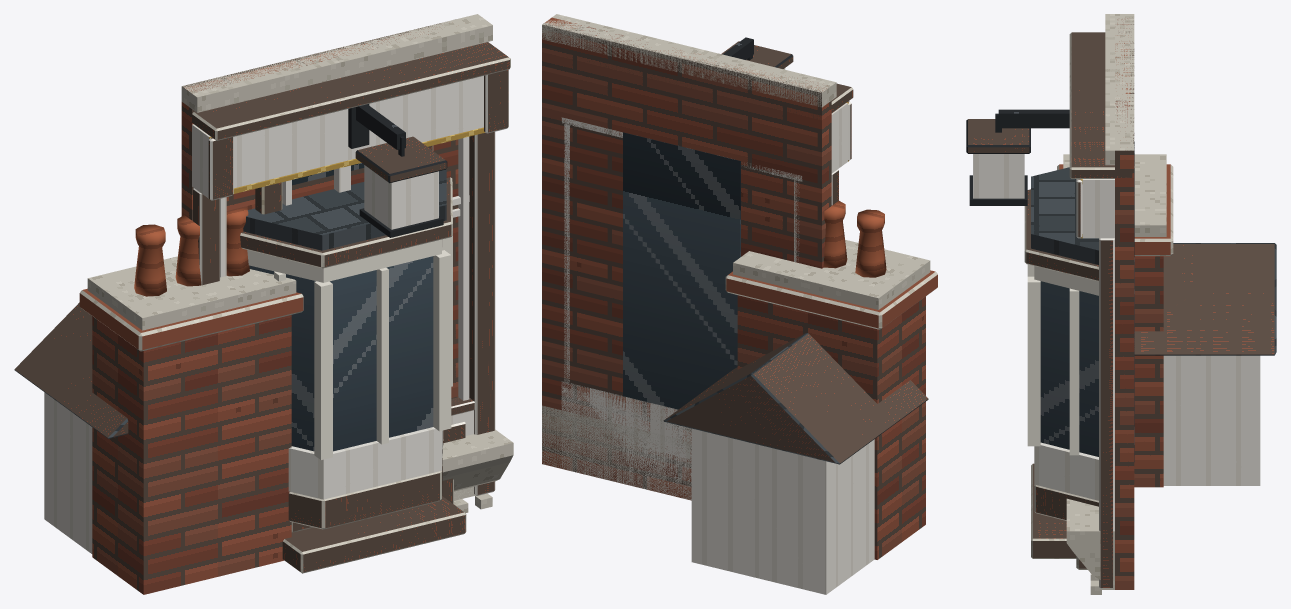
The model's file is street-kit.glb.
The picture shows the model from 3 angles, left to right: view 1: azimuth 30°, elevation 25°; view 2: azimuth 150°, elevation 25°; view 3: azimuth 270°, elevation 25°; orthographic projection. The views are drawn at different scales.
Parts seen in each view (by area): view 1: CHIMNEY, U_BAY, G_PUB, G_DOOR, DORMER, LAMP_BRACKET, CORNICE, U_ARCH, G_SHOPDOOR, G_SASH, G_SHOP; view 2: G_DOOR, G_SASH, DORMER, CHIMNEY, U_ARCH, G_PUB, CORNICE, G_SHOP, U_BAY, U_BOX, LAMP_BRACKET; view 3: DORMER, U_BAY, G_PUB, G_DOOR, CHIMNEY, LAMP_BRACKET, G_SASH, CORNICE.
Part boxes in pixels (bbox=[...]): CHIMNEY: bbox=[79, 207, 303, 594]; U_BAY: bbox=[226, 145, 458, 529]; G_PUB: bbox=[182, 19, 510, 499]; G_DOOR: bbox=[181, 14, 492, 573]; DORMER: bbox=[14, 302, 128, 553]; LAMP_BRACKET: bbox=[348, 104, 447, 237]; CORNICE: bbox=[442, 429, 513, 513]; U_ARCH: bbox=[181, 145, 458, 398]; G_SHOPDOOR: bbox=[233, 128, 484, 415]; G_SASH: bbox=[181, 22, 483, 200]; G_SHOP: bbox=[292, 163, 474, 415]; G_DOOR: bbox=[542, 14, 836, 500]; G_SASH: bbox=[542, 21, 825, 497]; DORMER: bbox=[663, 333, 928, 594]; CHIMNEY: bbox=[725, 201, 937, 559]; U_ARCH: bbox=[542, 137, 823, 468]; G_PUB: bbox=[542, 17, 853, 500]; CORNICE: bbox=[542, 405, 691, 495]; G_SHOP: bbox=[561, 381, 691, 498]; U_BAY: bbox=[542, 138, 821, 480]; U_BOX: bbox=[623, 215, 740, 407]; LAMP_BRACKET: bbox=[721, 37, 793, 69]; DORMER: bbox=[1134, 243, 1276, 485]; U_BAY: bbox=[1024, 167, 1098, 520]; G_PUB: bbox=[1069, 18, 1134, 588]; G_DOOR: bbox=[1031, 14, 1134, 589]; CHIMNEY: bbox=[1057, 154, 1173, 487]; LAMP_BRACKET: bbox=[966, 109, 1069, 205]; G_SASH: bbox=[1105, 14, 1134, 426]; CORNICE: bbox=[1066, 498, 1114, 594].
Bounding box in the file's own units: 1.32 × 1.53 × 0.96.
13 materials, 13 textured.
